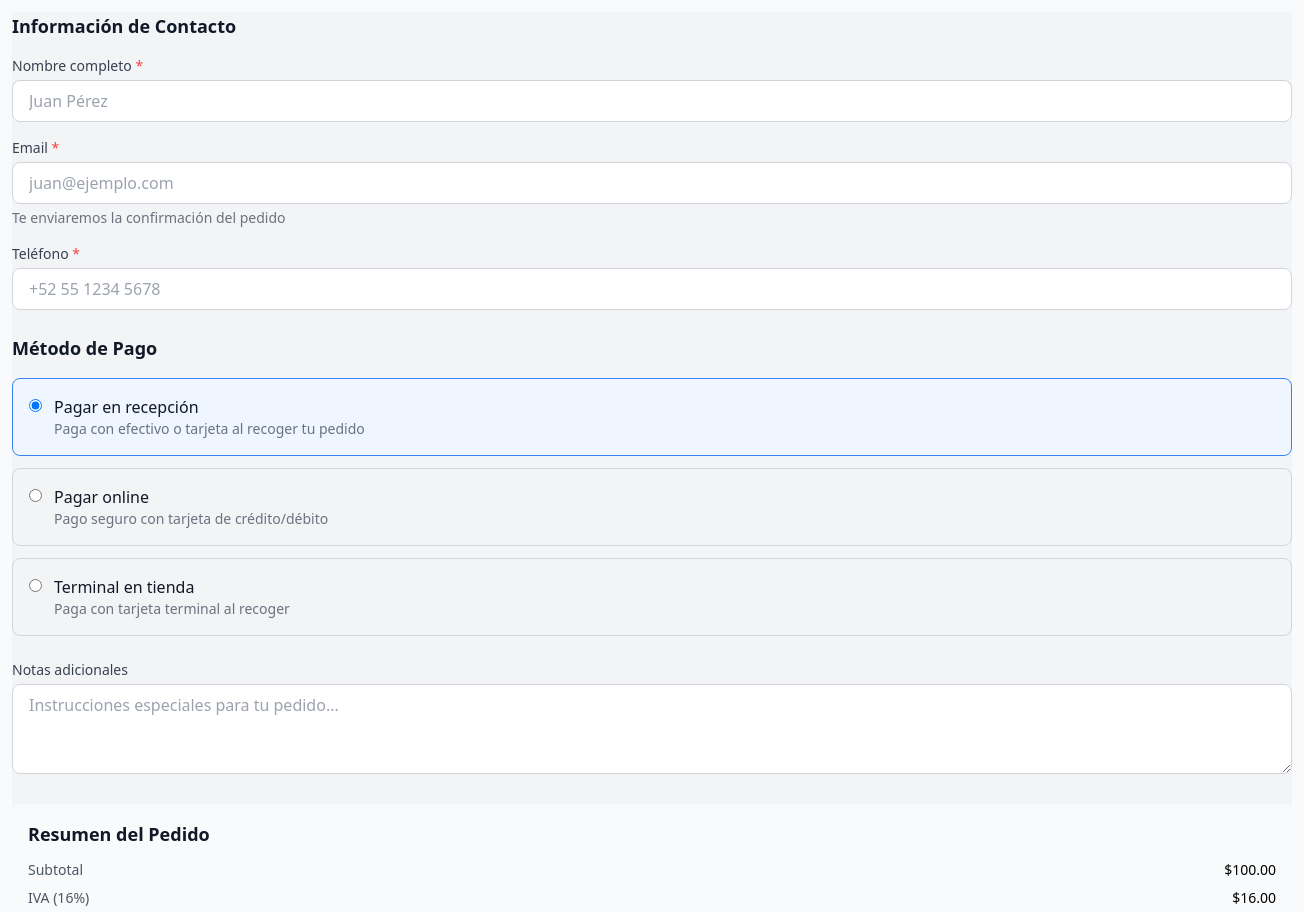
it: CheckoutForm › should select different payment methods
Expected: the radio button showing "on_arrival" is checked, [29,399,42,412]
What coordinates should you click on to do the following:
click the text "Pagar online Pago seguro con tarjeta de crédito/débito"
I would click on:
 (101, 497)
Its box is [12,468,1292,546].
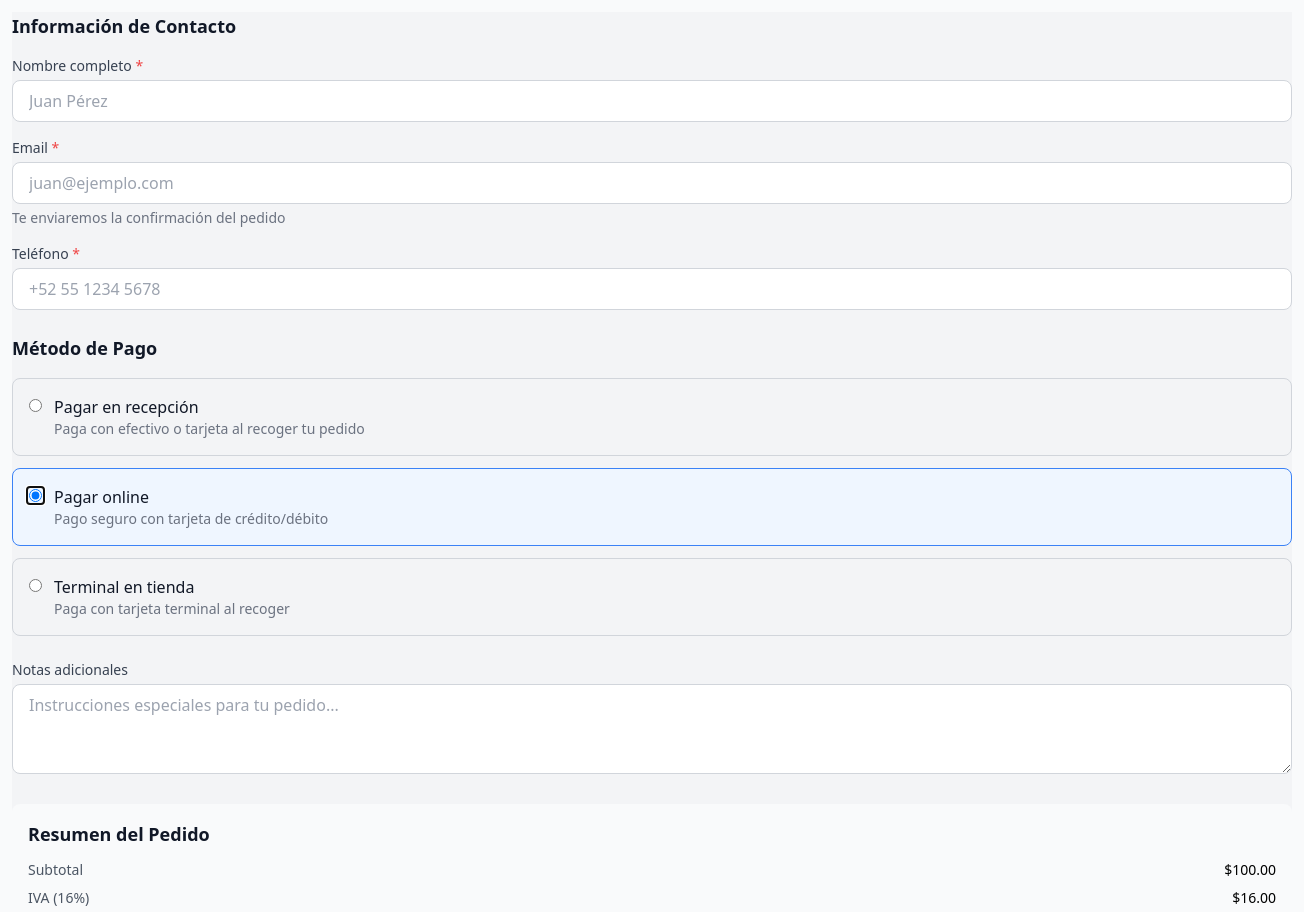
Expected: the radio button showing "stripe" is checked, [29,489,42,502]
